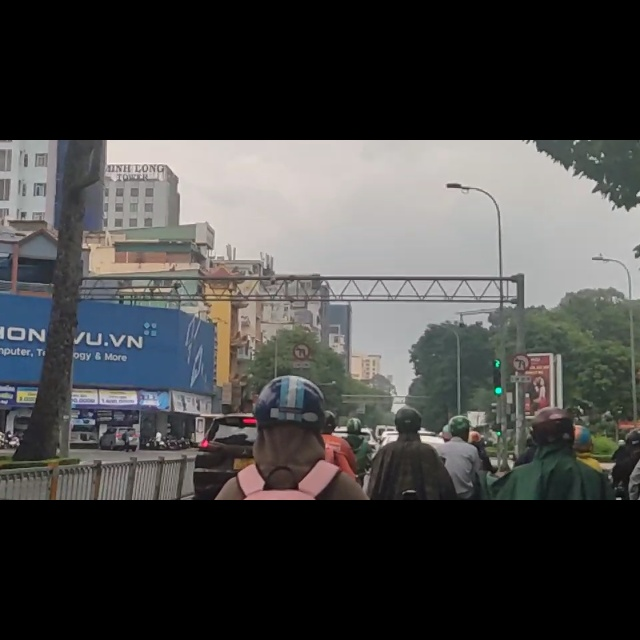bien_cam: (508, 378, 531, 415), (293, 359, 311, 391)
